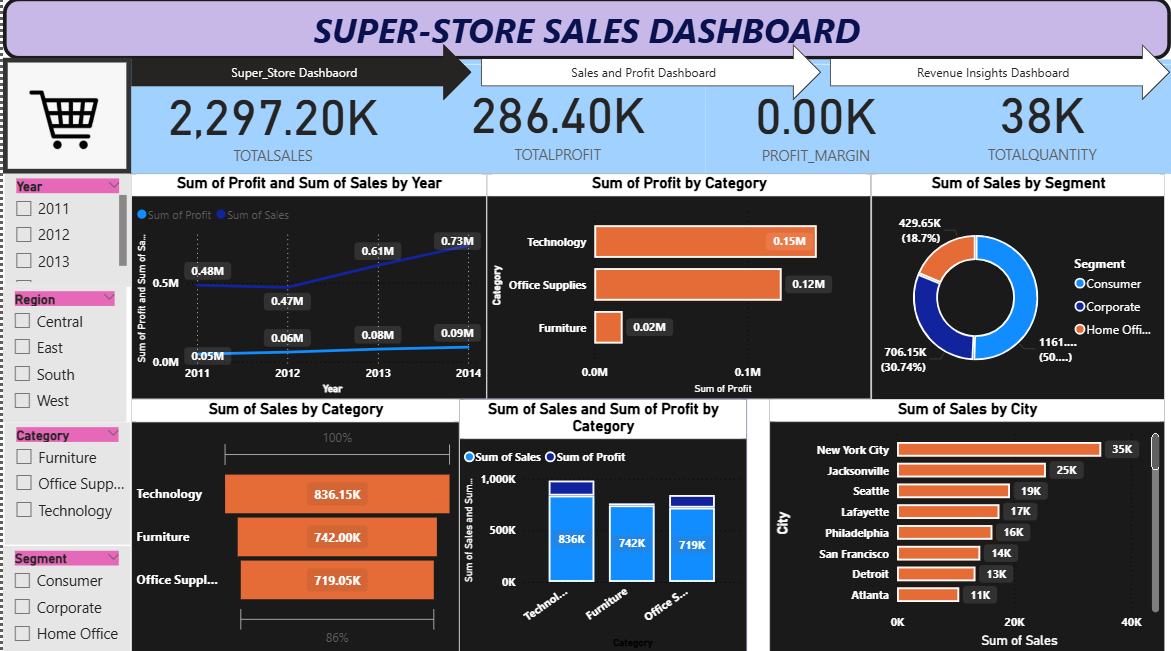

This screenshot's page, from the dashboard's own definition file:
{"tool":"powerbi","page":{"name":"Super_Store Dashbaord","canvas":[1280,720],"ordinal":0},"visuals":[{"type":"card","fields":{"Values":["Orders.TOTALSALES"]},"box":[135.5,71.1,321.7,125.3],"z":0},{"type":"card","fields":{"Values":["Orders.TOTALPROFIT"]},"box":[445.3,69.4,325.1,125.3],"z":1000},{"type":"card","fields":{"Values":["Orders.TOTALQUANTITY"]},"box":[997.3,69.4,282.8,125.3],"z":2000},{"type":"card","fields":{"Values":["Orders.PRIFIT_MARGIN"]},"box":[770.4,69.4,240.4,127],"z":3000},{"type":"barChart","fields":{"Y":["Sum(Orders.Profit)"],"Category":["Orders.Category"]},"box":[530,194.7,421.6,247.2],"z":4000},{"type":"lineChart","fields":{"Category":["Orders.Order Date.Variation.Date Hierarchy.Year"],"Y":["Sum(Orders.Profit)","Sum(Orders.Sales)"]},"box":[140.5,194.7,389.4,247.2],"z":5000},{"type":"donutChart","fields":{"Category":["Orders.Segment"],"Y":["Sum(Orders.Sales)"]},"box":[952,194,322,248],"z":6000},{"type":"clusteredBarChart","fields":{"Category":["Orders.City"],"Y":["Sum(Orders.Sales)"]},"box":[839.9,441.9,433.5,277.7],"z":7000},{"type":"columnChart","fields":{"Category":["Orders.Category"],"Y":["Sum(Orders.Sales)","Sum(Orders.Profit)"]},"box":[500,442,316,278],"z":8000},{"type":"shape","box":[0,2,1280,68],"z":9000},{"type":"slicer","fields":{"Values":["Orders.Region"]},"box":[0,318.3,135.5,149],"z":10000},{"type":"slicer","fields":{"Values":["Orders.Category"]},"box":[2,468,138,134],"z":11000},{"type":"slicer","fields":{"Values":["Orders.Segment"]},"box":[0,602,140,118],"z":12000},{"type":"slicer","fields":{"Values":["Orders.Order Date.Variation.Date Hierarchy.Year"]},"box":[1.7,194.7,138.8,123.6],"z":13000},{"type":"funnel","box":[140,468,360,150],"z":14000},{"type":"funnel","fields":{"Category":["Orders.Category"],"Y":["Sum(Orders.Sales)"]},"box":[140,442,360,278],"z":15000},{"type":"image","box":[0,67.7,140.5,127],"z":16000},{"type":"pageNavigator","box":[140.5,52.5,1139.6,62.7],"z":17000}]}

Visuals, with their boxes in screenshot pixels (x1, y1, x2, y2), scaled from the page's 1280x720 canvas onto the 1171x651 screenshot:
card - Orders.TOTALSALES: {"left": 124, "top": 64, "right": 418, "bottom": 178}
card - Orders.TOTALPROFIT: {"left": 407, "top": 63, "right": 705, "bottom": 176}
card - Orders.TOTALQUANTITY: {"left": 912, "top": 63, "right": 1170, "bottom": 176}
card - Orders.PRIFIT_MARGIN: {"left": 705, "top": 63, "right": 925, "bottom": 178}
barChart - Sum(Orders.Profit) x Orders.Category: {"left": 485, "top": 176, "right": 871, "bottom": 400}
lineChart - Orders.Order Date.Variation.Date Hierarchy.Year x Sum(Orders.Profit): {"left": 129, "top": 176, "right": 485, "bottom": 400}
donutChart - Orders.Segment x Sum(Orders.Sales): {"left": 871, "top": 175, "right": 1166, "bottom": 400}
clusteredBarChart - Orders.City x Sum(Orders.Sales): {"left": 768, "top": 400, "right": 1165, "bottom": 650}
columnChart - Orders.Category x Sum(Orders.Sales): {"left": 457, "top": 400, "right": 747, "bottom": 650}
shape: {"left": 0, "top": 2, "right": 1170, "bottom": 63}
slicer - Orders.Region: {"left": 0, "top": 288, "right": 124, "bottom": 423}
slicer - Orders.Category: {"left": 2, "top": 423, "right": 128, "bottom": 544}
slicer - Orders.Segment: {"left": 0, "top": 544, "right": 128, "bottom": 650}
slicer - Orders.Order Date.Variation.Date Hierarchy.Year: {"left": 2, "top": 176, "right": 129, "bottom": 288}
funnel: {"left": 128, "top": 423, "right": 457, "bottom": 559}
funnel - Orders.Category x Sum(Orders.Sales): {"left": 128, "top": 400, "right": 457, "bottom": 650}
image: {"left": 0, "top": 61, "right": 129, "bottom": 176}
pageNavigator: {"left": 129, "top": 47, "right": 1170, "bottom": 104}
